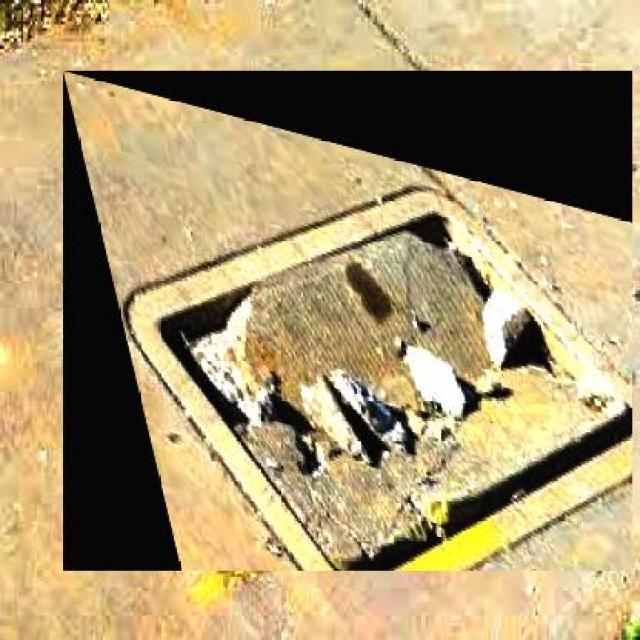Manhole: (63, 71, 632, 571)
